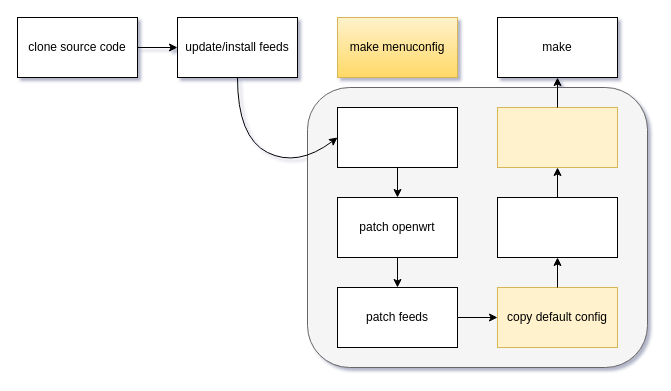
This 671x391 diagram has some shape labels left out. The box of each missing label's shape, as (x1, y1, x2, y2) in pixels:
append config: (496, 106, 618, 168)
make defconfig: (496, 196, 618, 258)
update/install custom feeds: (336, 106, 458, 168)
